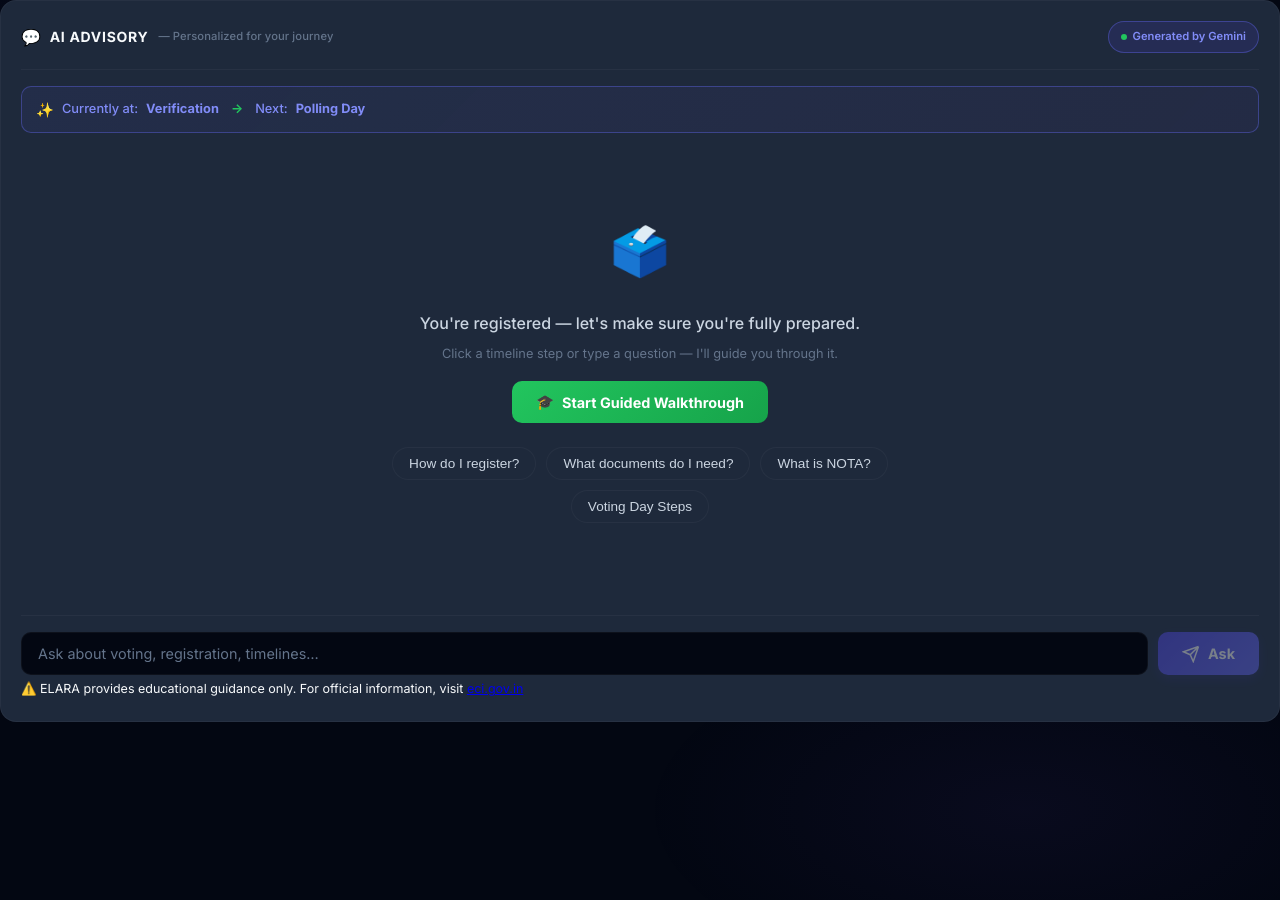
ChatPanel › sends message and displays AI response
Type "How to vote?" into the field named "Type your question here" at (584,654), box x1=21 y1=632 x2=1148 y2=675
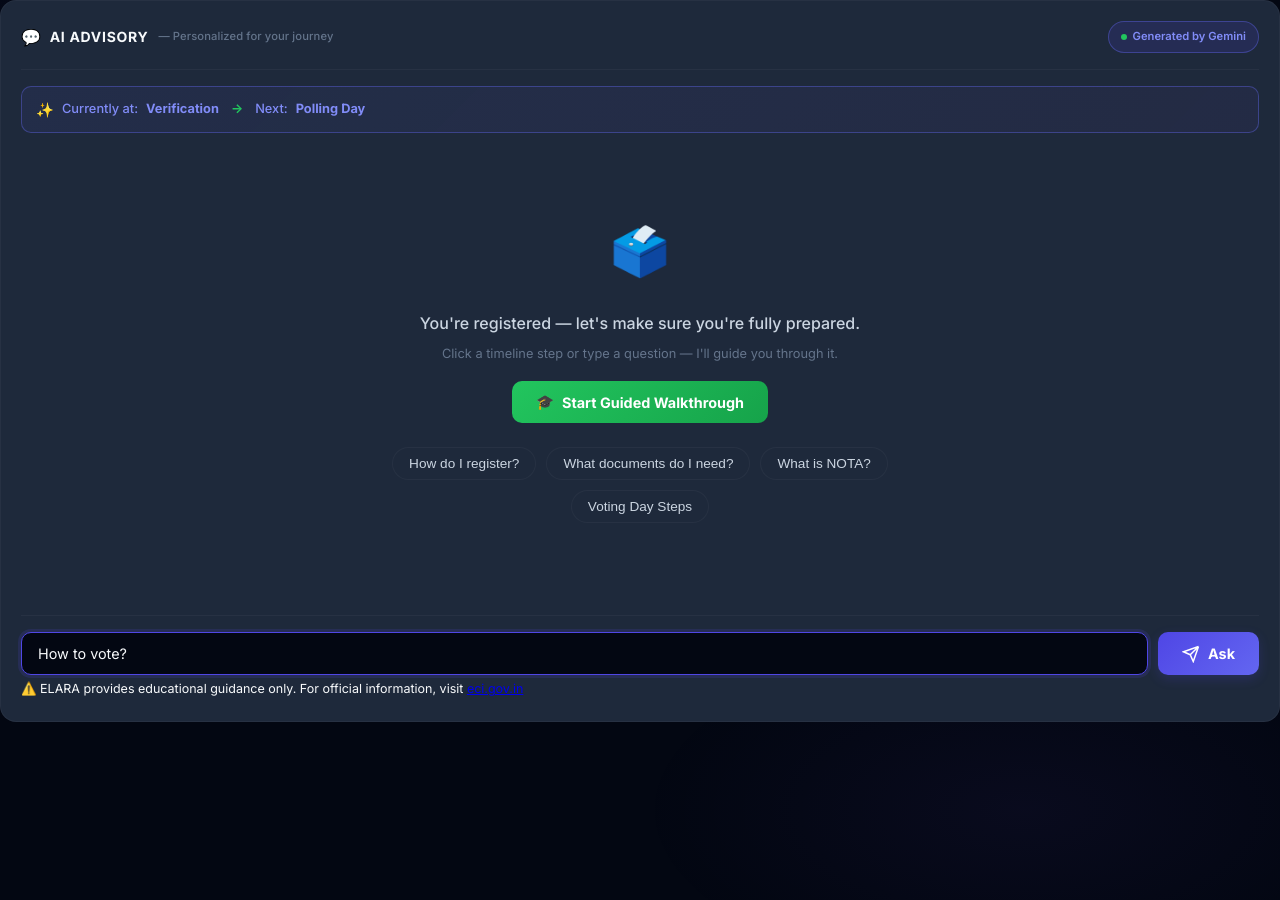
Click the button with aria-label "Send question to ELARA" at (1208,654), box x1=1158 y1=632 x2=1259 y2=675
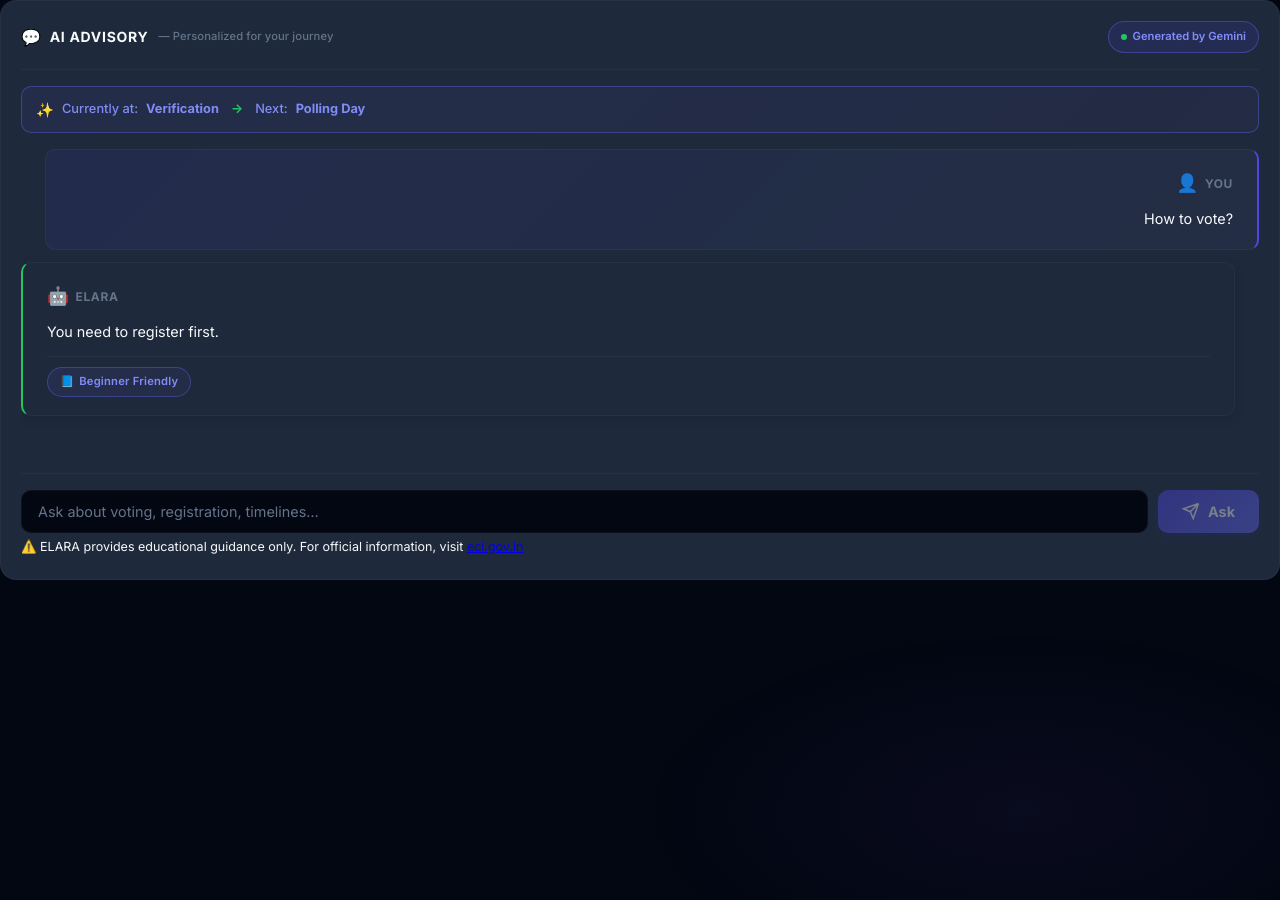
Expected: the text "You need to register first." is shown, x1=47 y1=323 x2=219 y2=340
